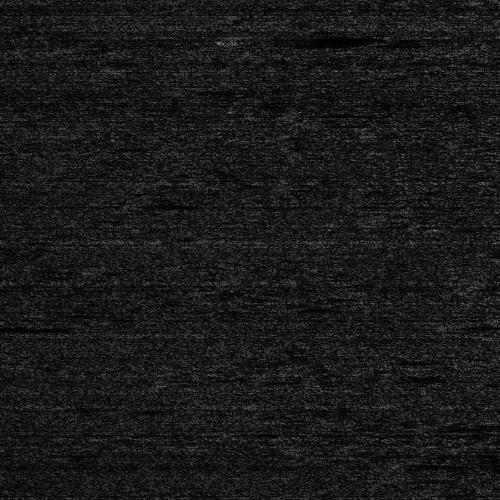object: (430, 323, 471, 328), (484, 334, 500, 339)
shadow: (0, 323, 75, 328), (271, 35, 370, 38), (451, 323, 494, 328)
